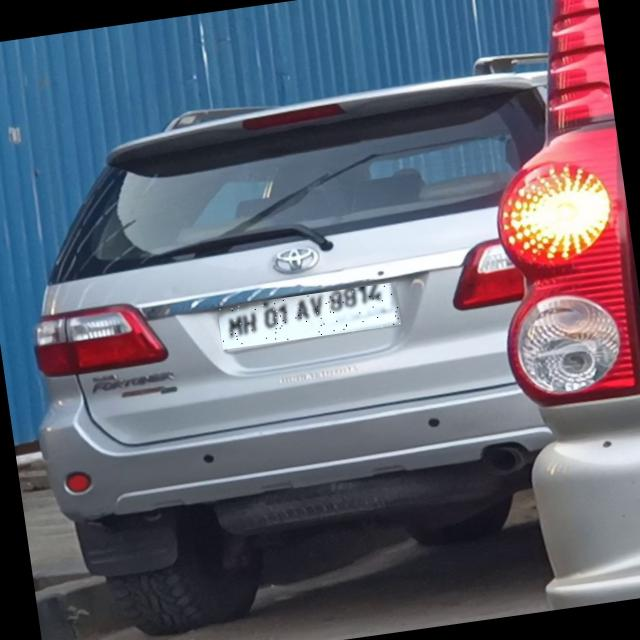Plate: (219, 283, 403, 351)
